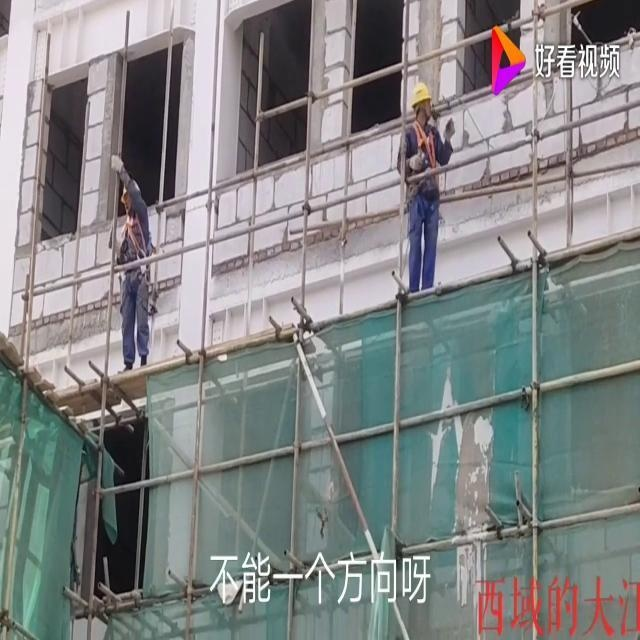Arnes_seguridad: (409, 116, 439, 170), (121, 211, 147, 264)
